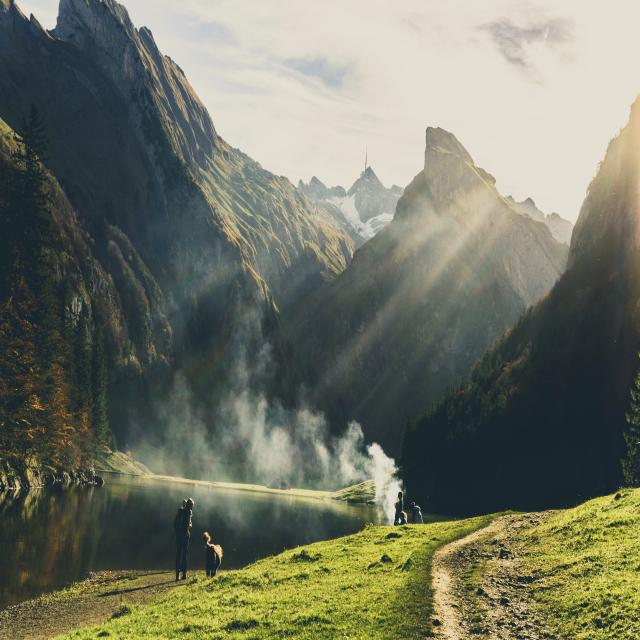adult: (173, 498, 194, 582), (408, 502, 424, 524), (394, 490, 403, 525), (396, 511, 407, 526)
